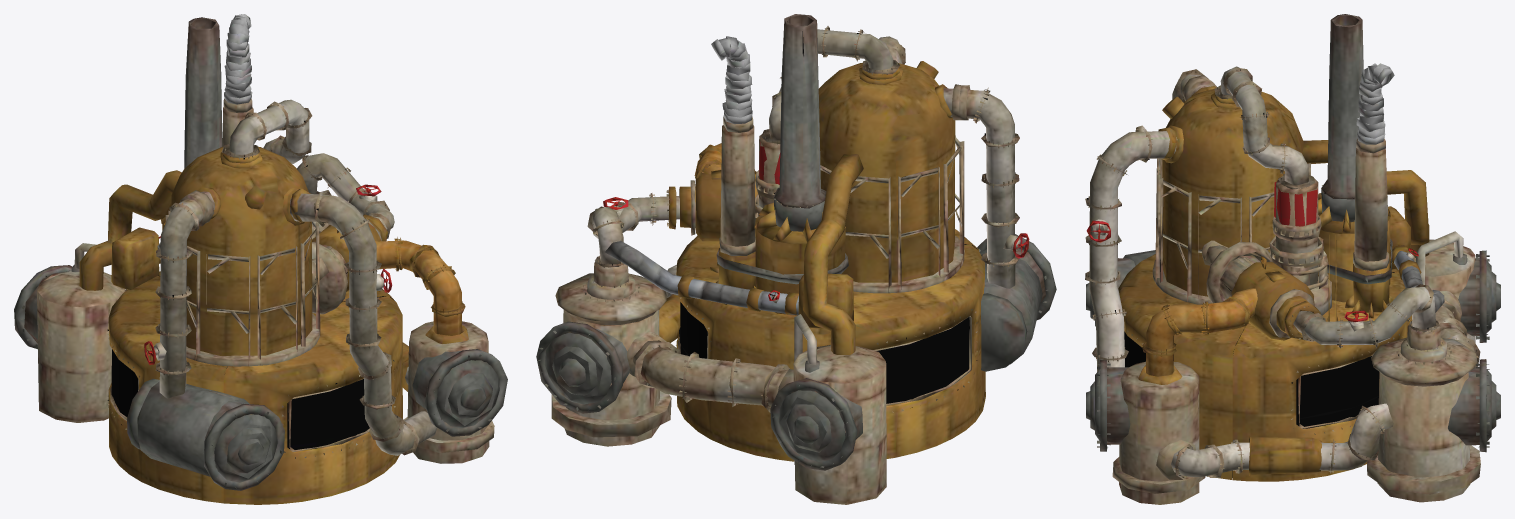
Rendered from chemical-plant-south.glb.
The picture shows the model from 3 angles, left to right: view 1: azimuth 30°, elevation 25°; view 2: azimuth 150°, elevation 25°; view 3: azimuth 270°, elevation 25°; orthographic projection. The views are drawn at different scales.
Parts seen in each view (by area): view 1: body; view 2: body; view 3: body.
Part boxes in pixels (x1,y1,x2,y2): body: (14,14,507,504); body: (536,14,1056,504); body: (1085,14,1500,504).
Bounding box in the file's own units: 2.92 × 3.14 × 3.01.
1 material, 1 textured.
